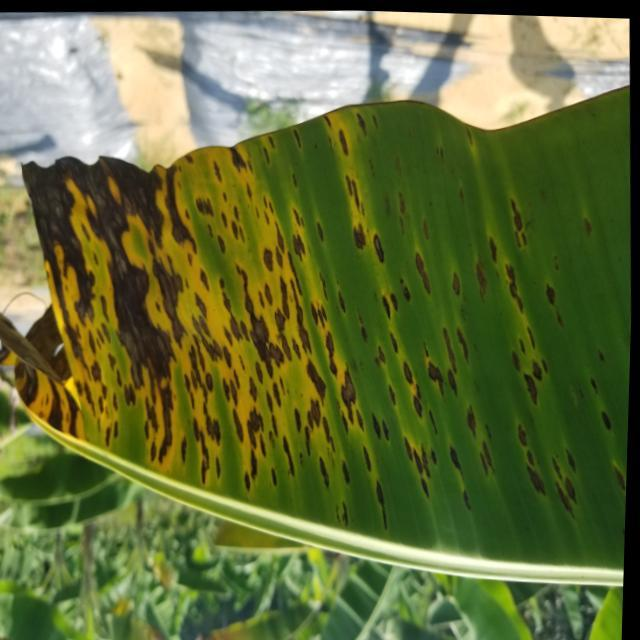Early_rust: (0, 98, 640, 560)
